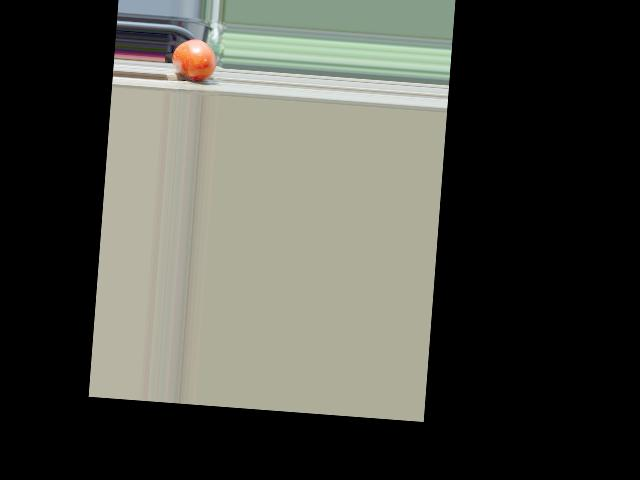tomato: (171, 37, 218, 80)
